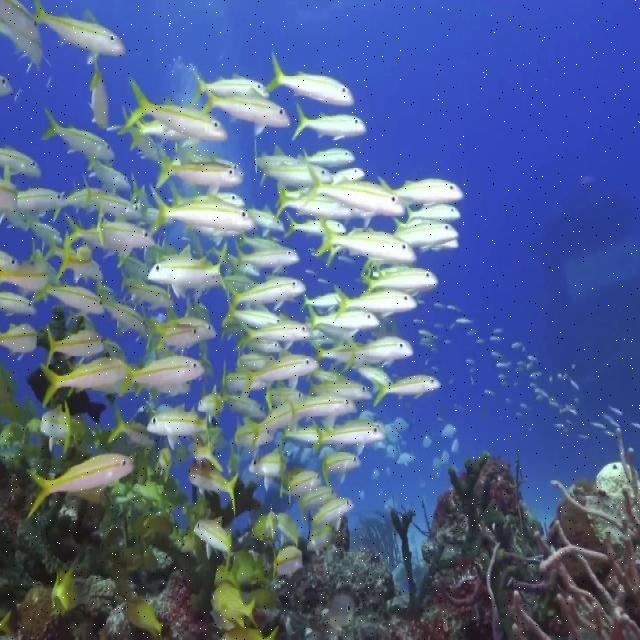fish: (301, 150, 407, 228), (26, 453, 134, 520), (127, 76, 229, 146), (32, 1, 127, 64), (248, 392, 356, 445), (151, 188, 254, 240), (264, 51, 355, 106), (317, 217, 416, 265), (42, 107, 116, 169), (146, 245, 226, 301), (203, 88, 290, 136), (115, 354, 204, 399), (155, 150, 241, 192), (237, 349, 319, 393), (41, 360, 121, 404), (229, 275, 307, 311), (149, 403, 207, 451), (237, 314, 314, 349), (336, 285, 417, 318), (190, 464, 239, 517), (293, 105, 367, 140), (192, 68, 265, 103), (345, 336, 415, 371), (313, 422, 383, 455), (48, 327, 104, 367), (233, 240, 302, 272), (372, 376, 440, 407), (33, 284, 105, 313), (394, 221, 459, 253), (362, 268, 439, 294), (213, 584, 257, 627), (309, 306, 379, 329), (395, 179, 464, 202), (195, 517, 228, 560), (312, 498, 354, 531), (128, 601, 161, 635)
